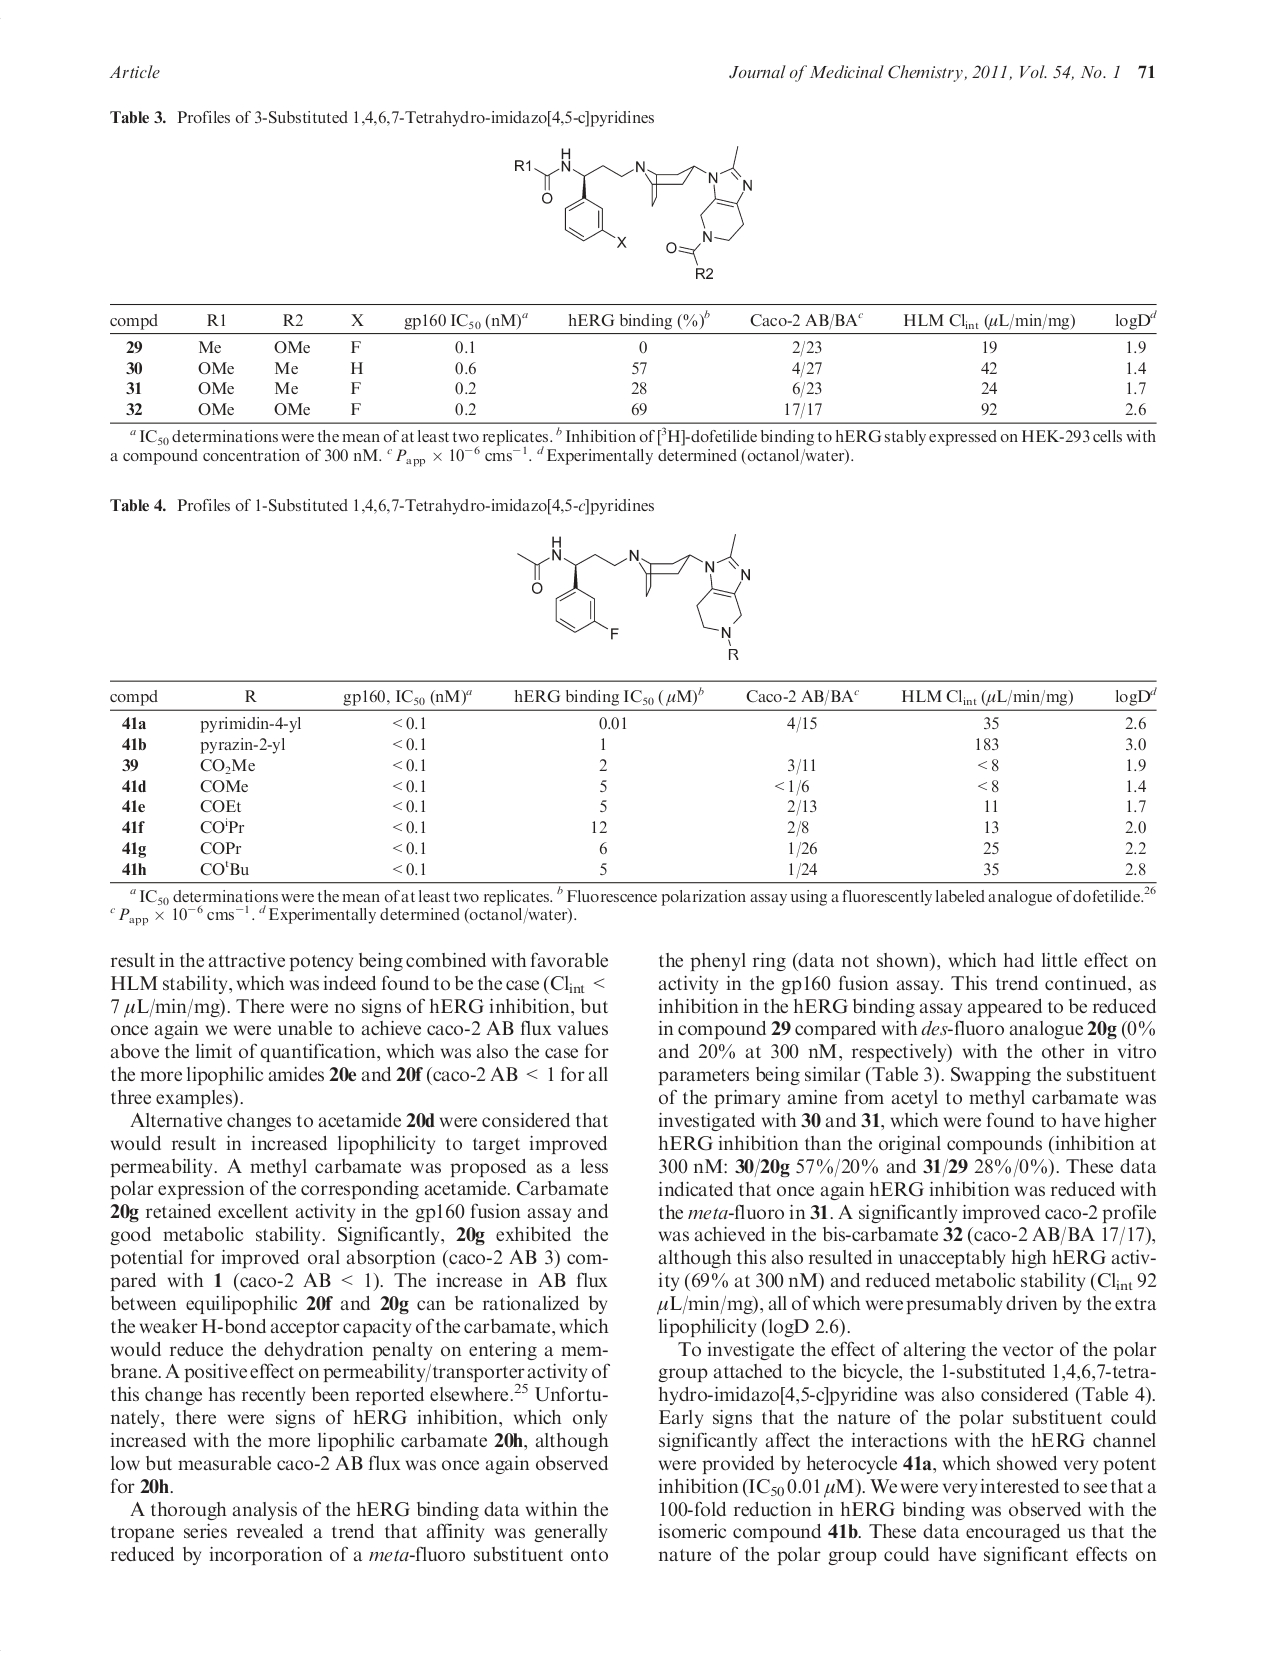exist_molecular: (507, 142, 755, 285), (511, 531, 751, 664)
